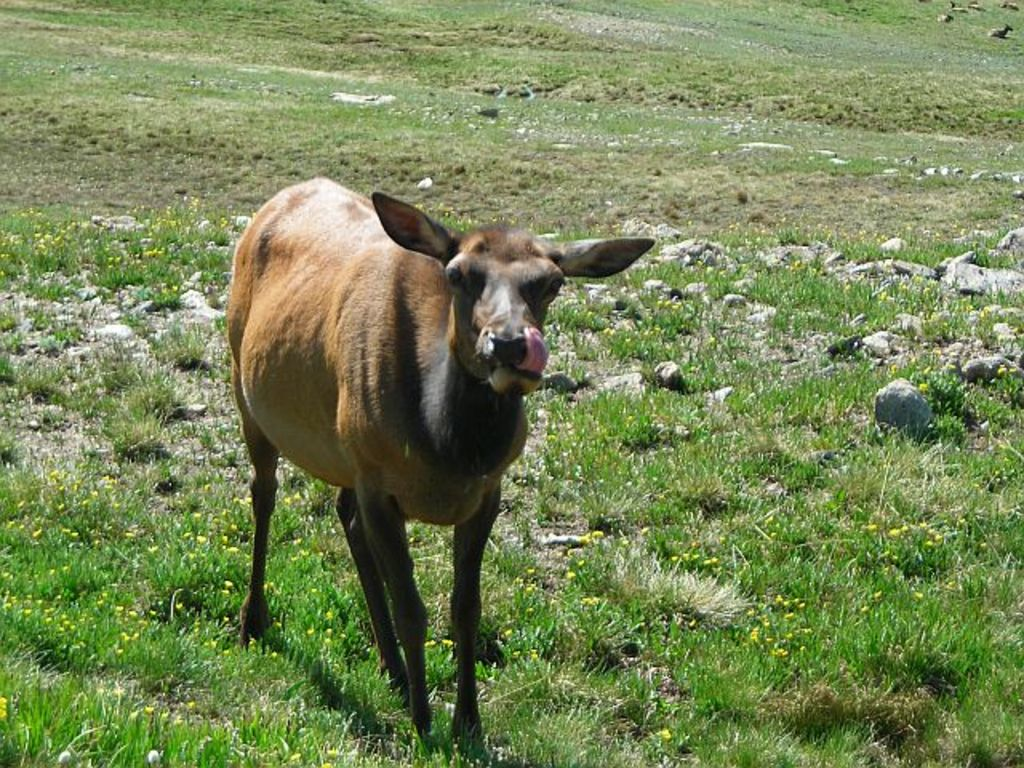Animal: (225, 170, 654, 741)
